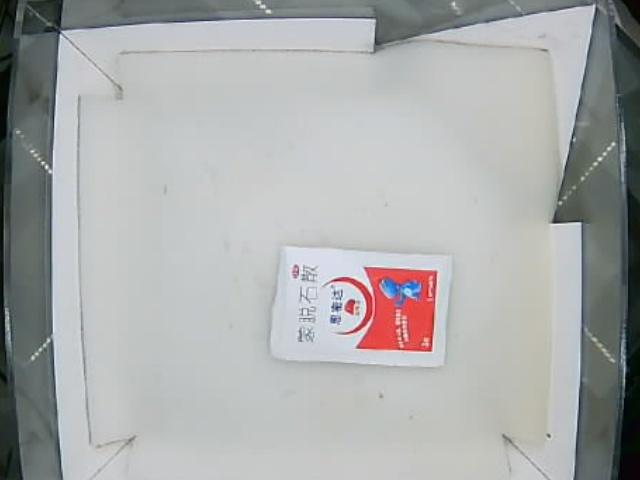Medicine: (265, 246, 450, 368)
